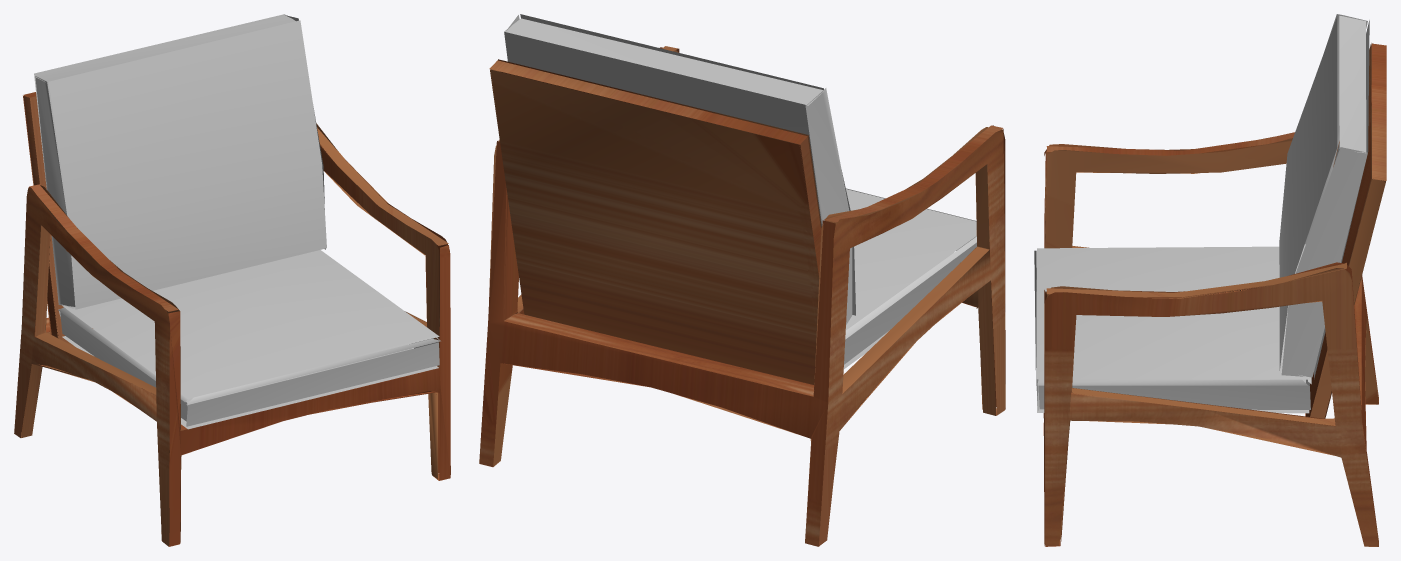
Rendered from SillaNaranja.fbx.
The picture shows the model from 3 angles, left to right: view 1: azimuth 30°, elevation 25°; view 2: azimuth 150°, elevation 25°; view 3: azimuth 270°, elevation 25°; orthographic projection. The views are drawn at different scales.
Parts seen in each view (by area): view 1: Cube; view 2: Cube; view 3: Cube.
Part boxes in pixels (box(x1,y1,x2,y2)): Cube: box(14, 14, 450, 546); Cube: box(479, 14, 1005, 546); Cube: box(1034, 14, 1386, 546).
Size of the model in its own units: 111 by 136 by 111.
